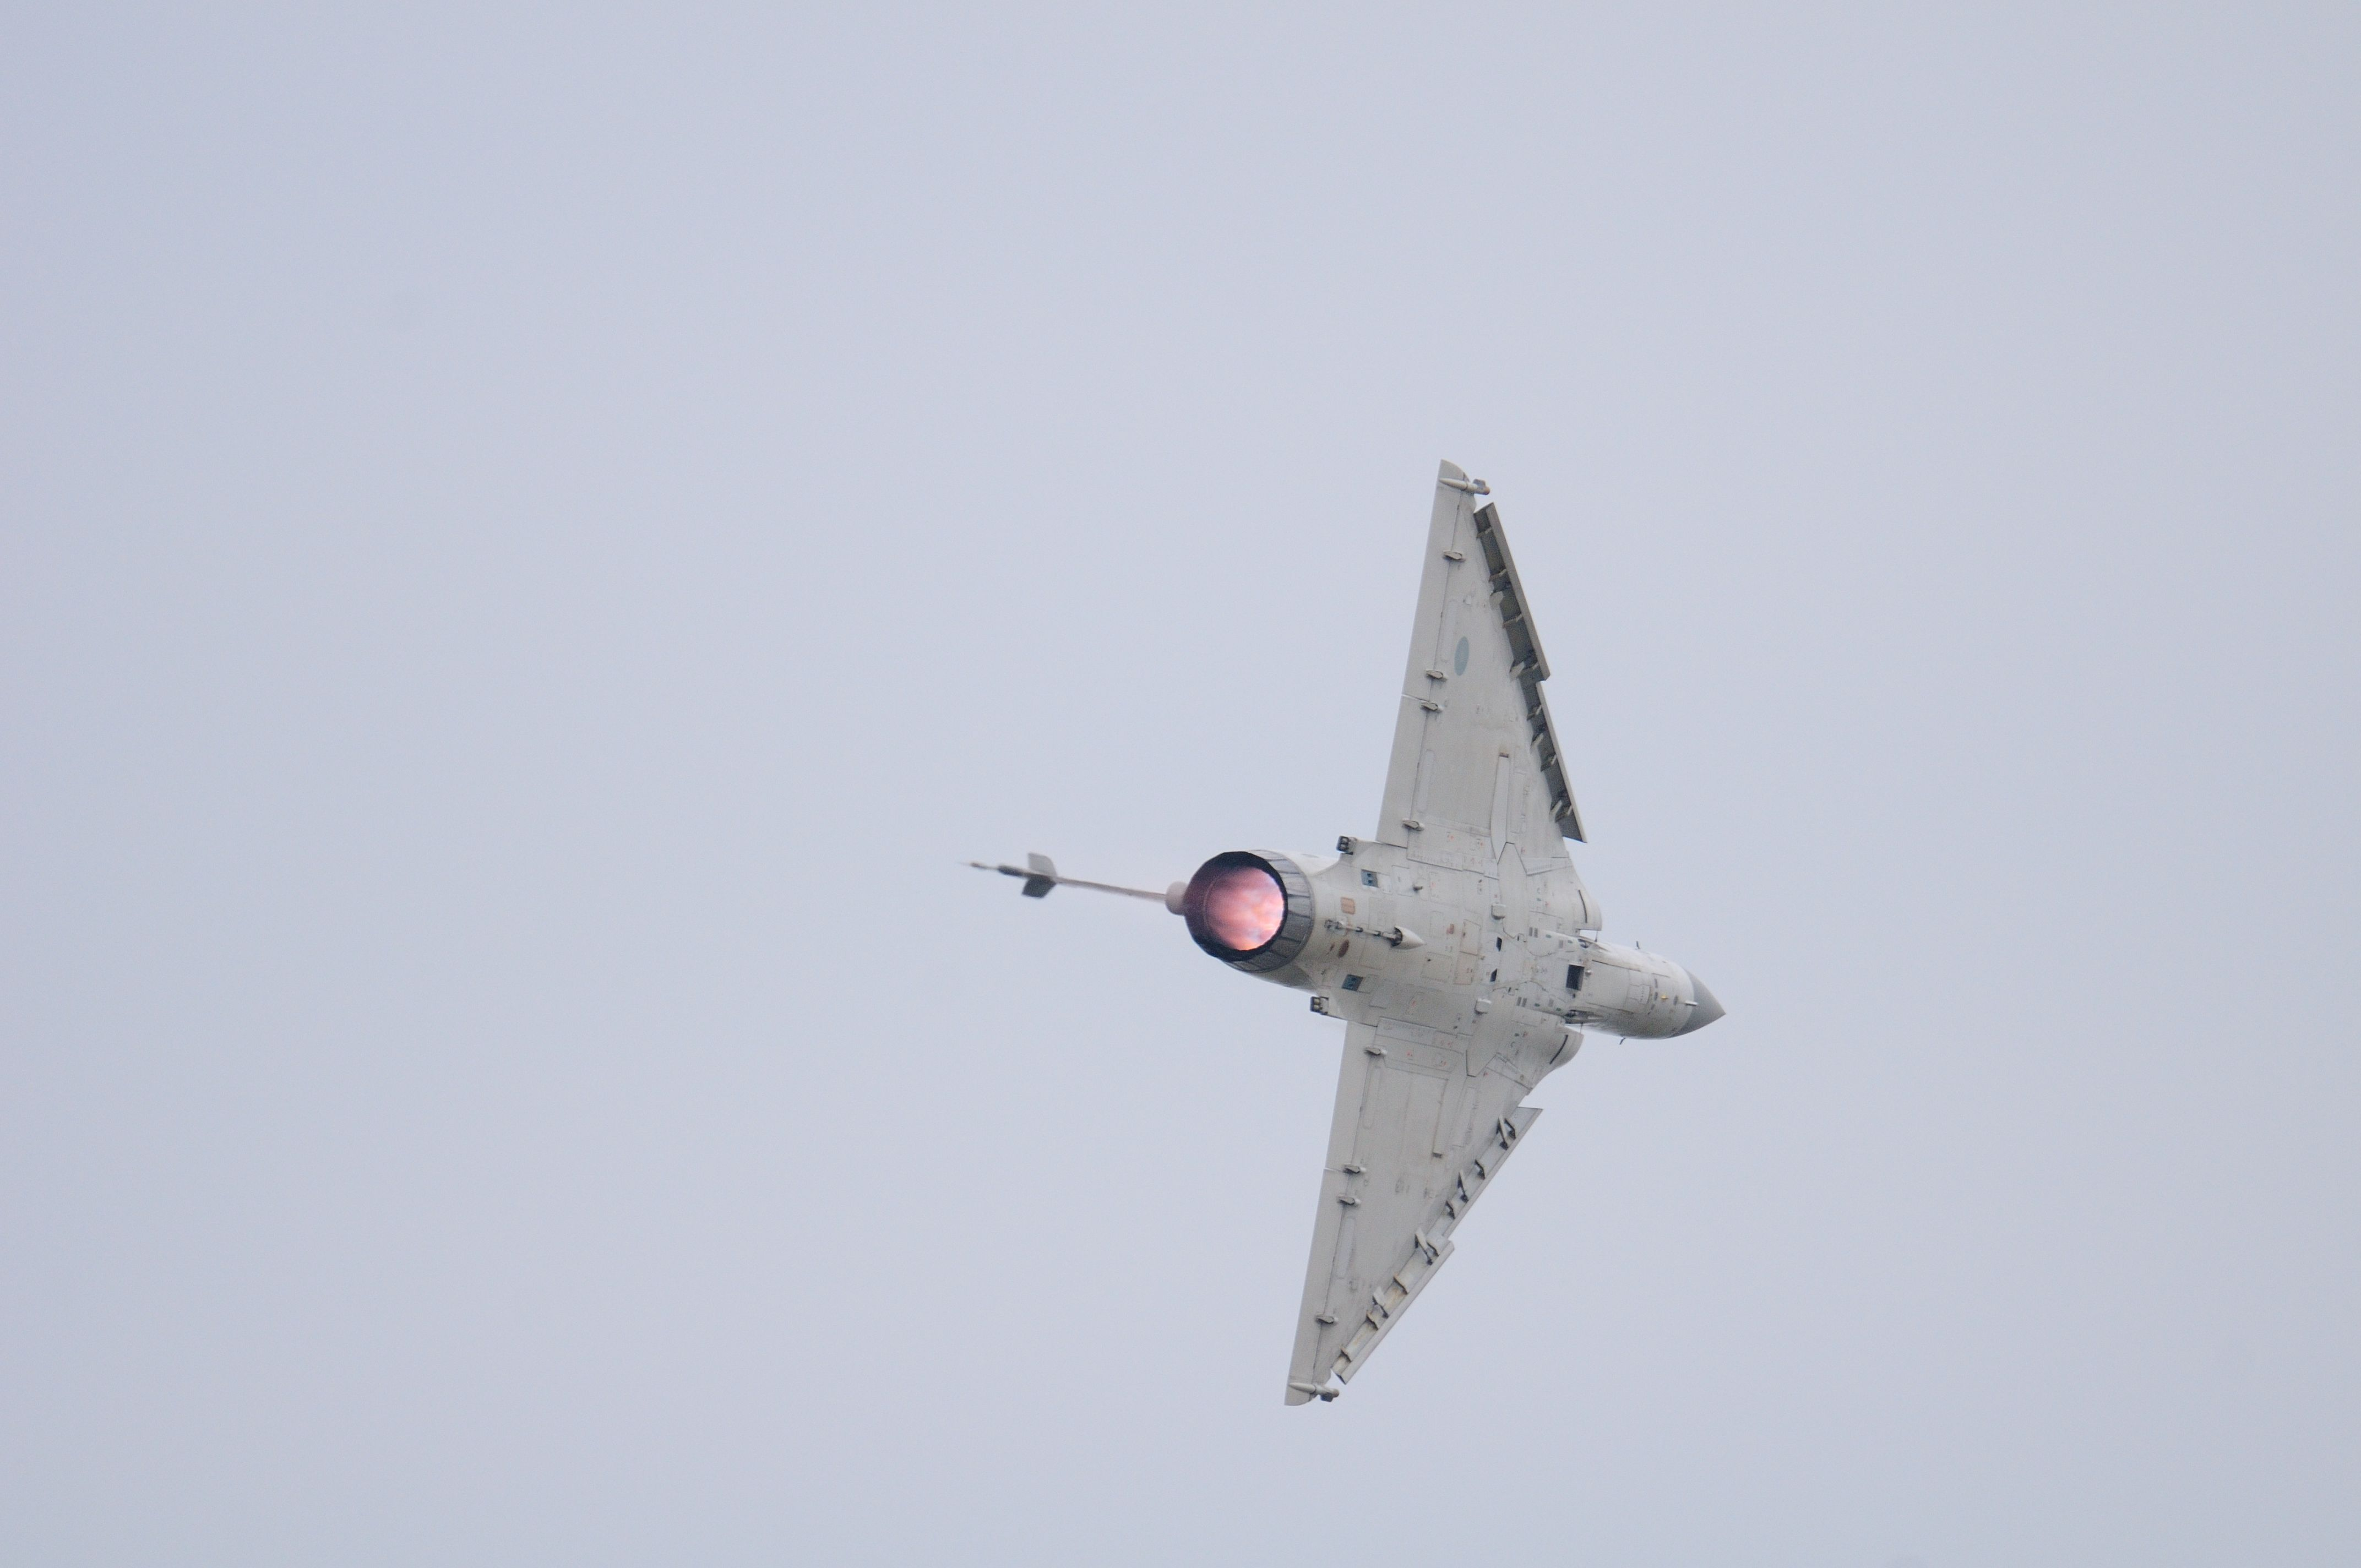Mirage2000: (952, 457, 1726, 1407)
